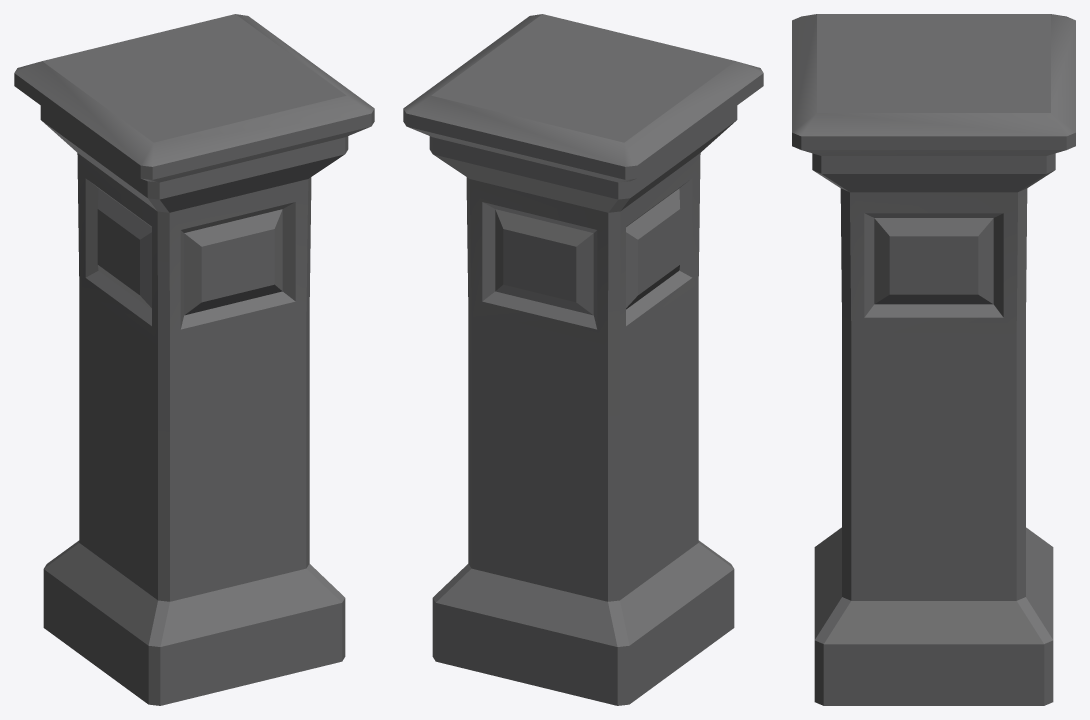
The model's file is Pillar_1.fbx.
3 views of the same model, side by side, from view 1: azimuth 30°, elevation 25°; view 2: azimuth 150°, elevation 25°; view 3: azimuth 270°, elevation 25° (orthographic). The views are drawn at different scales.
Visible parts, largest first — view 1: Pillar_1; view 2: Pillar_1; view 3: Pillar_1.
Part boxes in pixels (x1,y1,x2,y2): Pillar_1: (14,14,374,705); Pillar_1: (403,14,763,705); Pillar_1: (792,14,1075,705).
Bounding box in the file's own units: 30.9 × 71.13 × 30.9.
